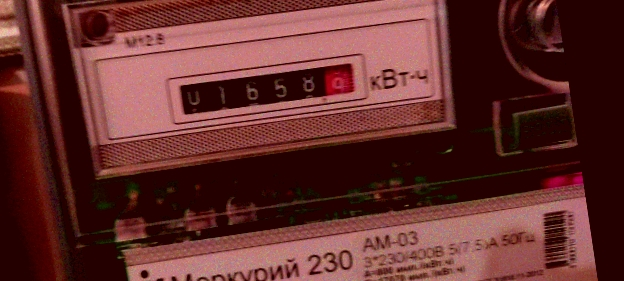0: (183, 83, 203, 107)
1: (212, 80, 230, 106)
5: (270, 74, 290, 100)
6: (241, 77, 263, 103)
8: (298, 69, 318, 94)
9: (328, 73, 347, 96)
screen: (162, 45, 374, 132)
